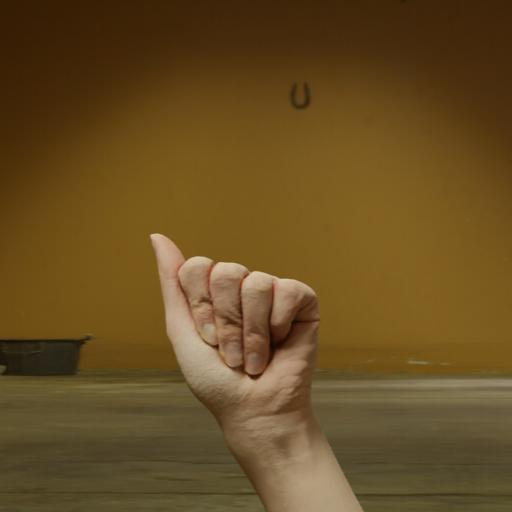A: (139, 215, 351, 485)
